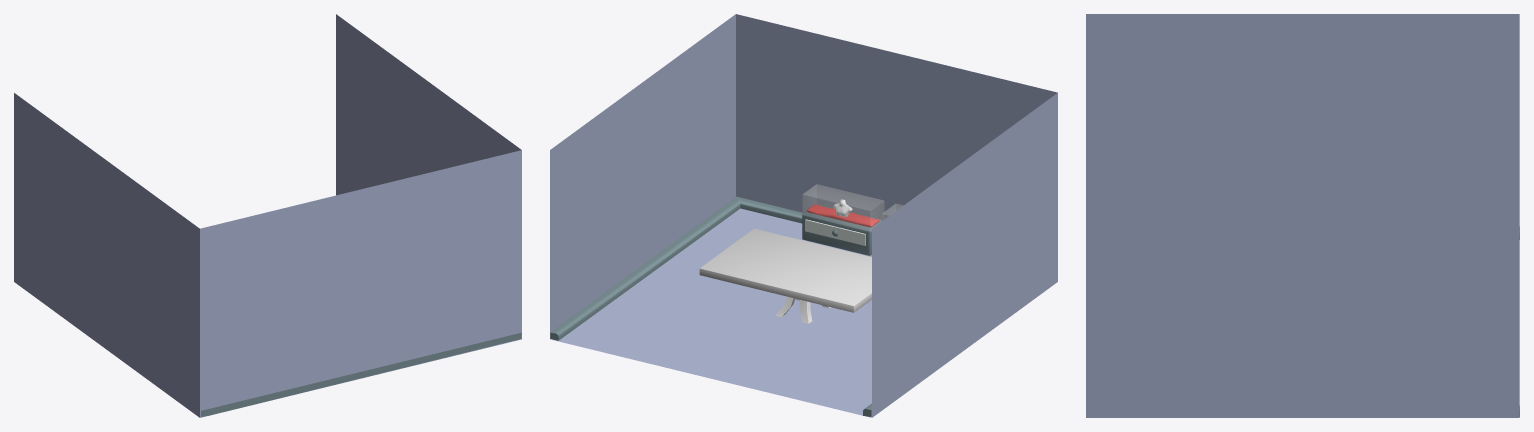
The model's file is Environment.fbx.
3 renders of one model, left to right at view 1: azimuth 30°, elevation 25°; view 2: azimuth 150°, elevation 25°; view 3: azimuth 270°, elevation 25°, orthographic. The views are drawn at different scales.
Visible parts, largest first — view 1: Plane.001, Cube.004; view 2: Plane.001, Table, Cube.004, Cube.006, Cube, Cube.009; view 3: Plane.001.
Boxes of the visible parts, x1,y1,x2,y2 form: Plane.001: (14,14,521,417); Cube.004: (201,332,521,416); Plane.001: (550,14,1057,417); Table: (699,228,871,323); Cube.004: (550,196,871,416); Cube.006: (802,184,884,231); Cube: (802,204,882,255); Cube.009: (807,204,879,227); Plane.001: (1086,14,1519,417).
Bounding box in the file's own units: 23.88 × 13.55 × 23.89.
